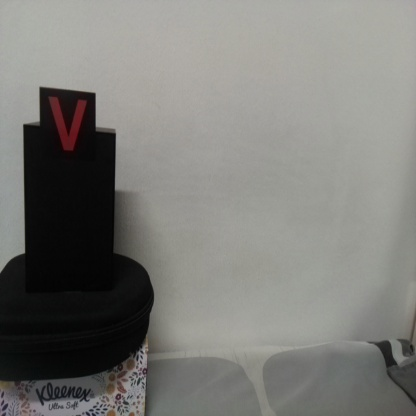id_11: (40, 88, 95, 168)
